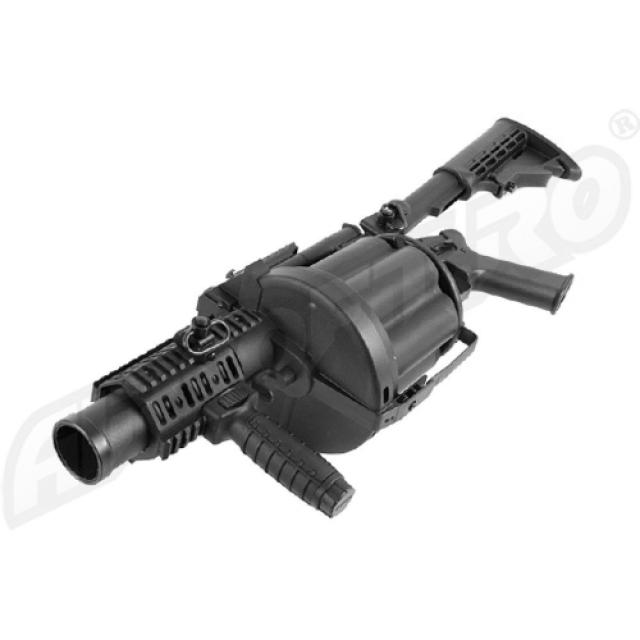Lancher: (23, 103, 586, 552)
